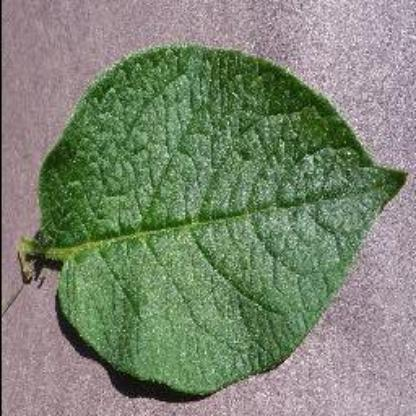Healthy-plant: (7, 37, 412, 400)
